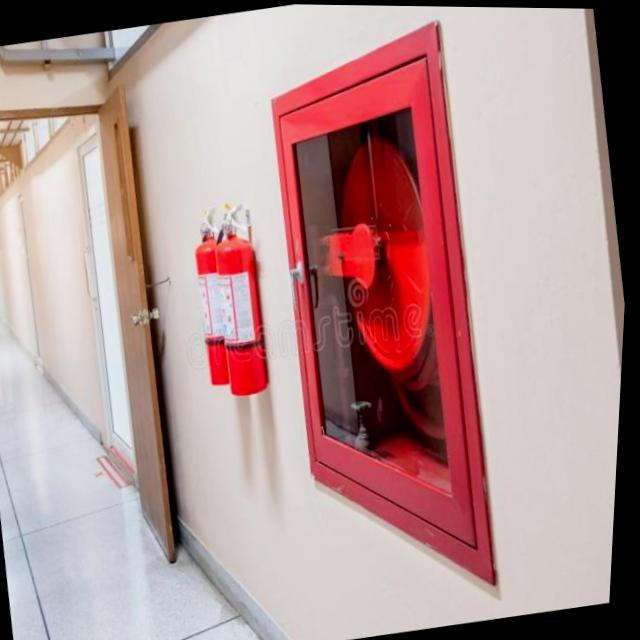FireExtinguisher: (201, 199, 282, 397), (183, 198, 254, 388)
